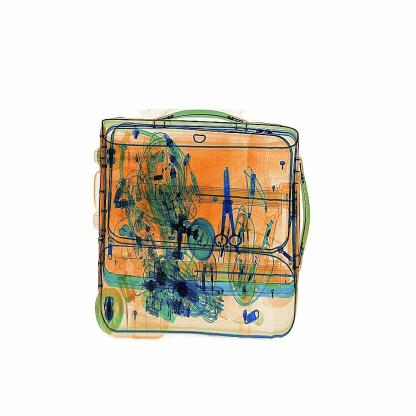gun: (208, 159, 250, 254)
